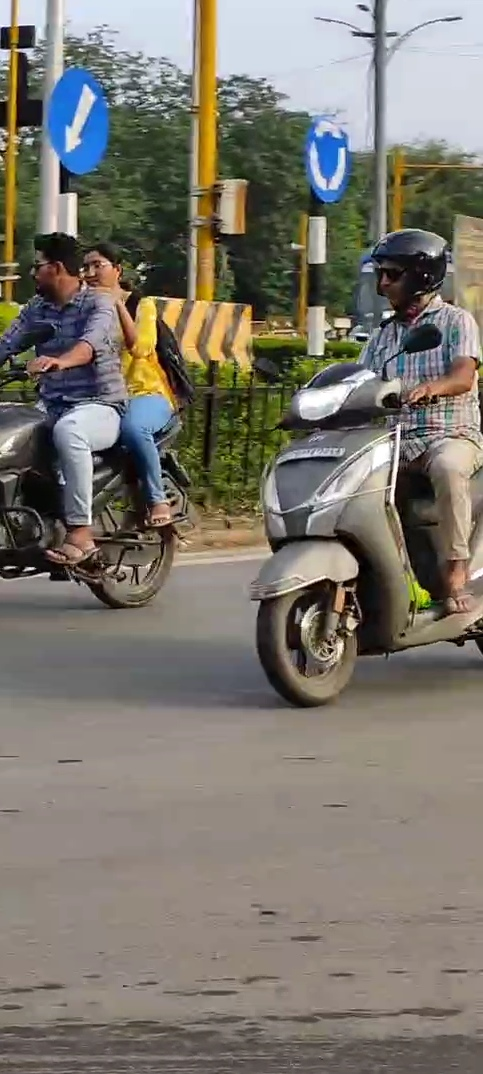BikeWithRider: (237, 217, 483, 716), (0, 222, 206, 618)
Helmet: (360, 220, 457, 315)
NoHelmet: (23, 226, 91, 303), (70, 234, 136, 304)
